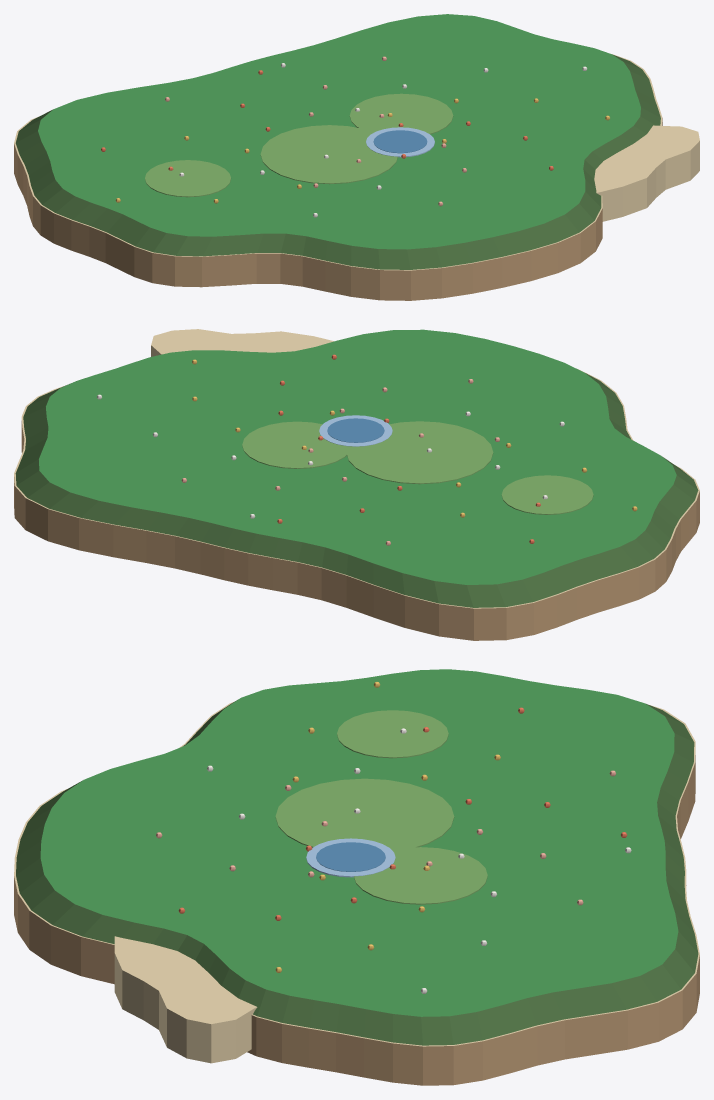
The model's file is m_island.gltf.
The picture shows the model from 3 angles, top to bottom: view 1: azimuth 30°, elevation 25°; view 2: azimuth 150°, elevation 25°; view 3: azimuth 270°, elevation 25°; orthographic projection. The views are drawn at different scales.
Parts seen in each view (by area): view 1: m_island; view 2: m_island; view 3: m_island.
Part boxes in pixels (x1,y1,x2,y2): m_island: (14, 14, 699, 300); m_island: (14, 329, 699, 640); m_island: (14, 669, 699, 1085).
Size of the model in its own units: 31.67 by 2.4 by 24.56.
Materials: 1 (1 with a texture image).
